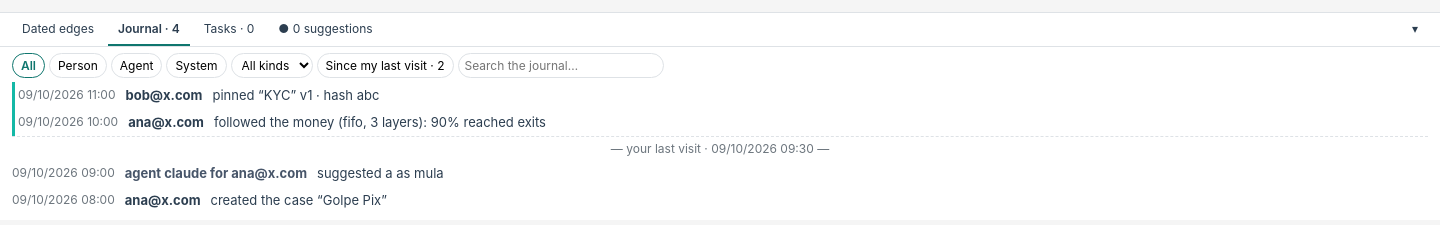
it: CaseTimeline · Activity › marks what happened since the previous visit (per case, in localStorage)
The width and height of the screenshot is (1440, 225).
Expected: the text with test id "journal-last-visit" shows "09/10/2026 09:30", [611,141,829,156]
Click the button with test id "activity-since-visit" at (385, 66), box [316,53,454,78]
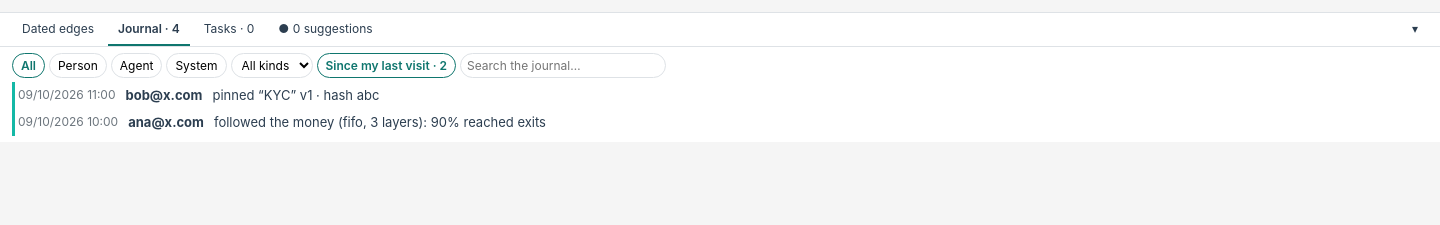
Expected: the number of elements with test id "journal-event" is 2, [12,82,1428,109]; [12,109,1428,136]
